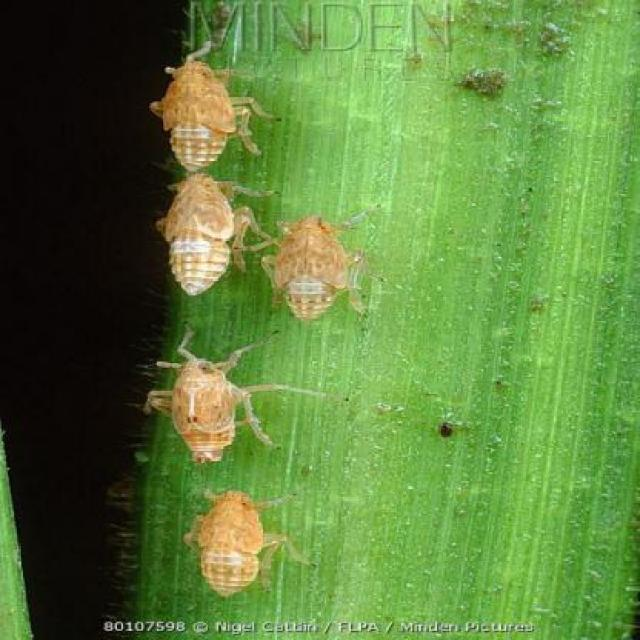brown-planthopper: (155, 333, 276, 464), (180, 486, 312, 600), (156, 172, 244, 297), (264, 217, 368, 320), (161, 61, 261, 168)
